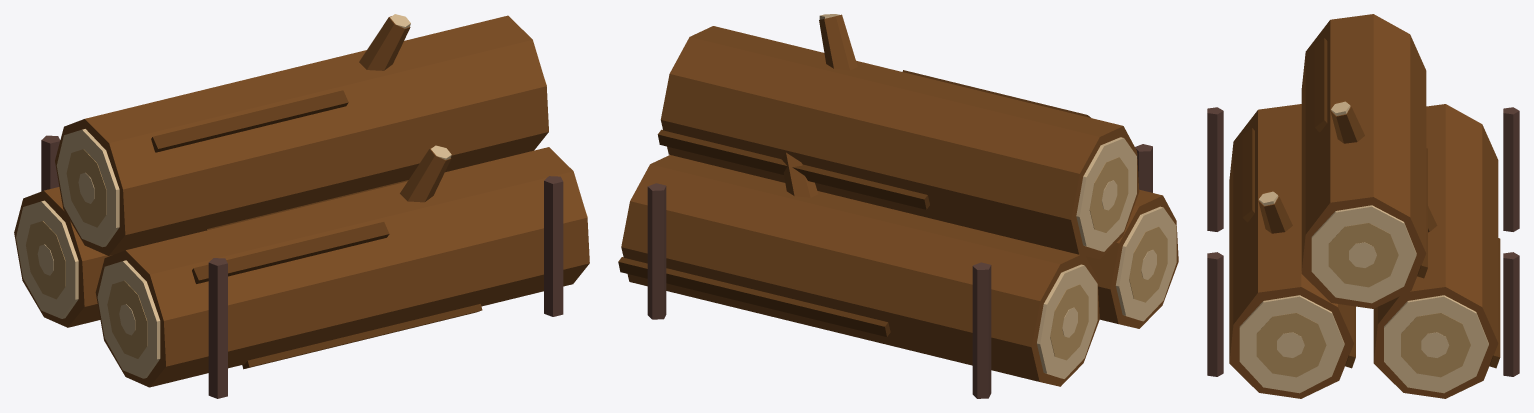
The model's file is logPile.glb.
The picture shows the model from 3 angles, left to right: view 1: azimuth 30°, elevation 25°; view 2: azimuth 150°, elevation 25°; view 3: azimuth 270°, elevation 25°; orthographic projection. The views are drawn at different scales.
Visible parts, largest first — view 1: logPile-m; view 2: logPile-m; view 3: logPile-m.
Boxes of the visible parts, x1,y1,x2,y2 form: logPile-m: [14, 14, 589, 398]; logPile-m: [618, 14, 1178, 398]; logPile-m: [1207, 14, 1519, 398].
Size of the model in its own units: 2.45 by 1.47 by 1.73.
